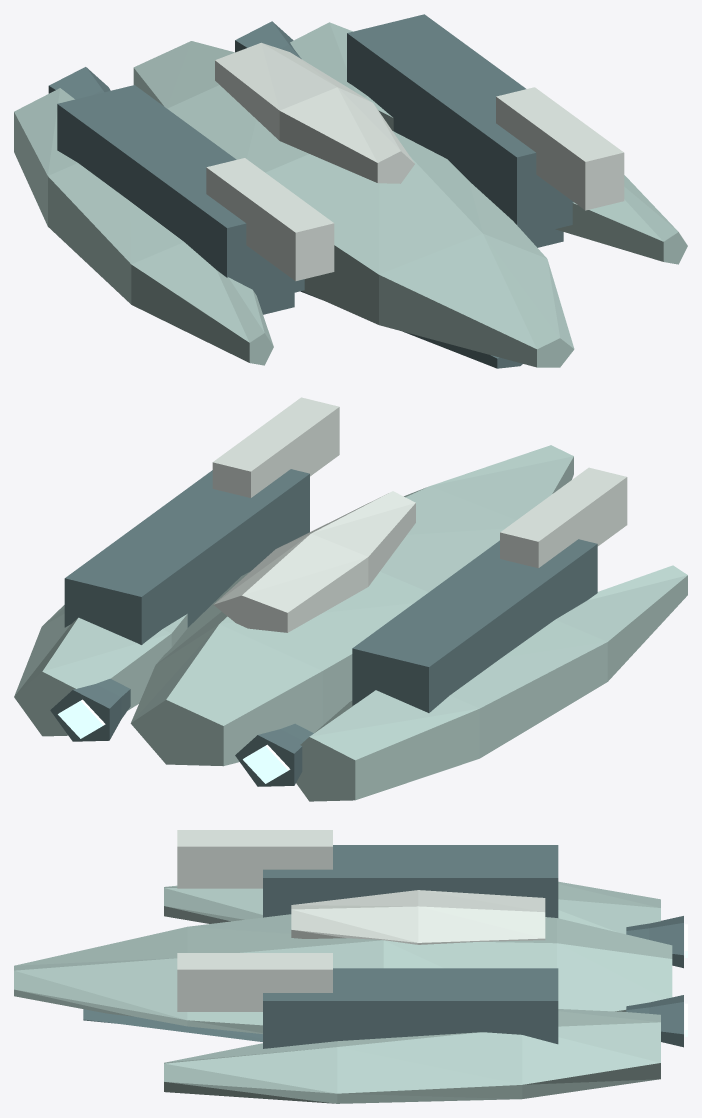
3 views of the same model, one above another, from view 1: azimuth 30°, elevation 25°; view 2: azimuth 150°, elevation 25°; view 3: azimuth 270°, elevation 25° (orthographic). The views are drawn at different scales.
Bounding box in the file's own units: 12.53 × 3.91 × 17.33.
